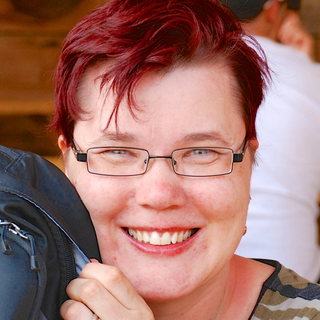eye: (93, 144, 139, 164), (179, 143, 223, 160)
